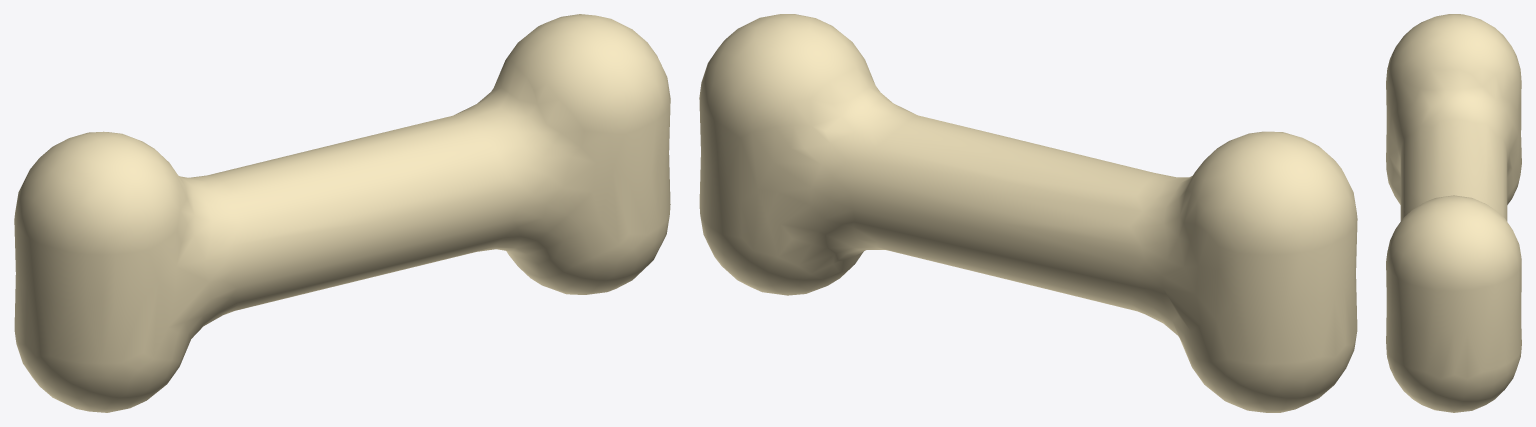
File: Bone.fbx
The picture shows the model from 3 angles, left to right: view 1: azimuth 30°, elevation 25°; view 2: azimuth 150°, elevation 25°; view 3: azimuth 270°, elevation 25°; orthographic projection. The views are drawn at different scales.
Parts seen in each view (by area): view 1: Bone; view 2: Bone; view 3: Bone.
Boxes of the visible parts, box(x1,y1,x2,y2) form: Bone: box(14, 14, 670, 412); Bone: box(699, 14, 1357, 412); Bone: box(1386, 14, 1521, 412).
Bounding box in the file's own units: 250 × 100 × 60.15.
Materials: 1 (1 with a texture image).
